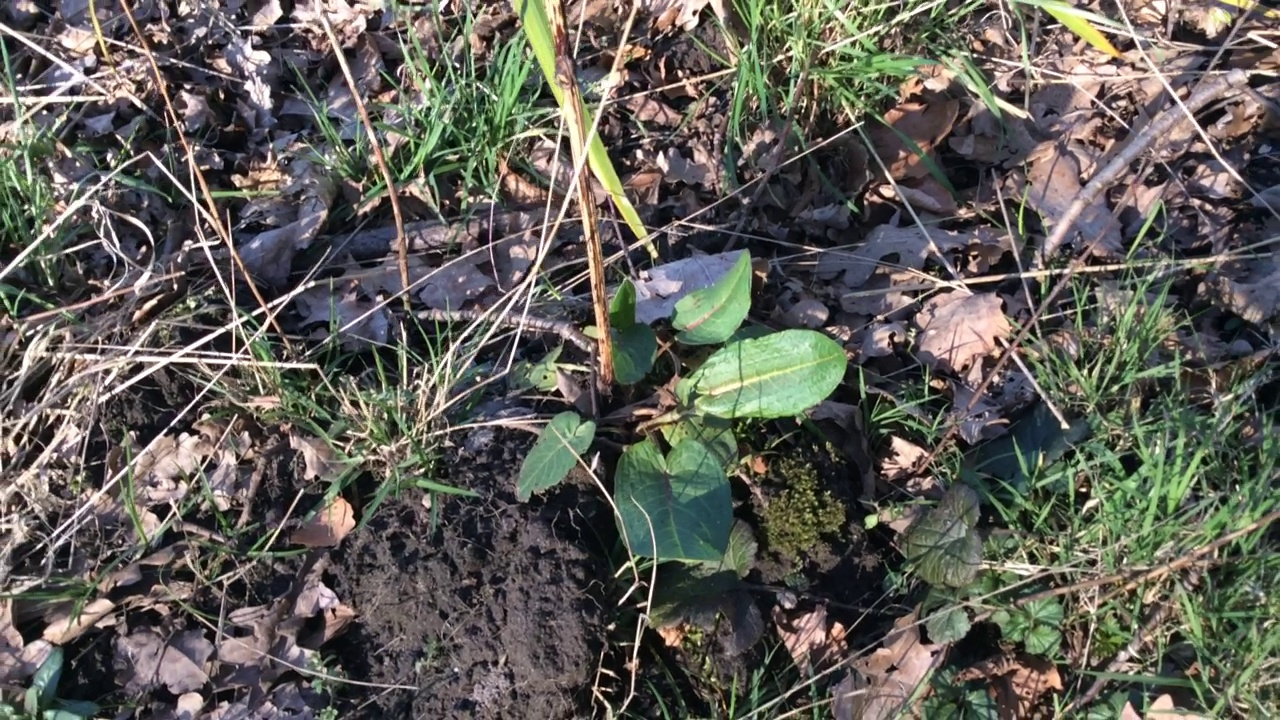rumex: (516, 250, 848, 569)
